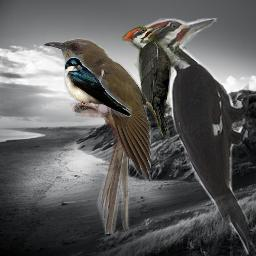Cuckoo: (43, 37, 151, 234)
Swallow: (64, 57, 132, 117)
Woodpecker: (126, 18, 249, 255), (122, 24, 187, 138)
